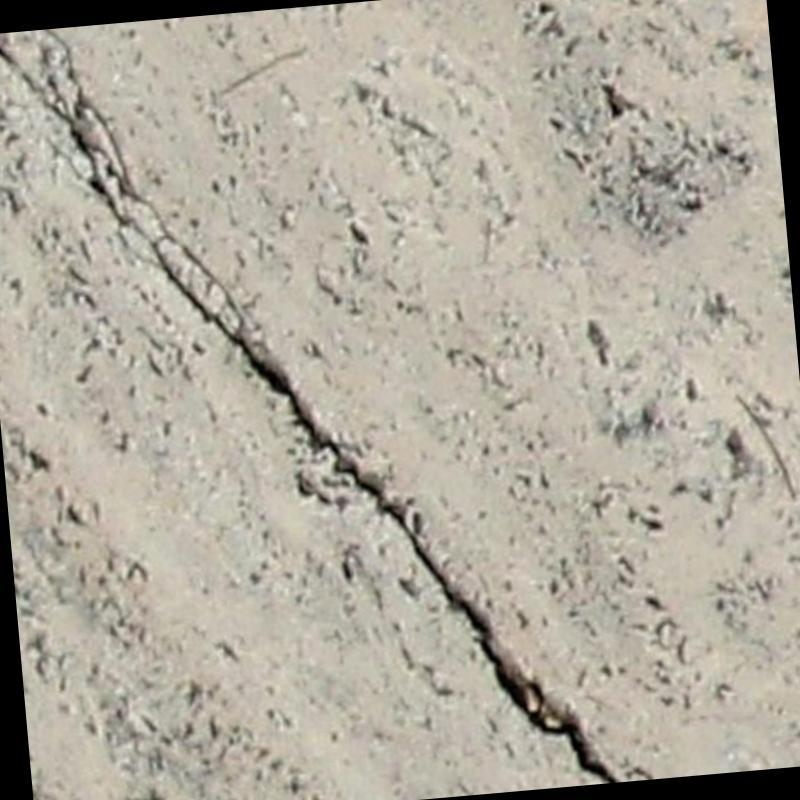pothole: (0, 29, 625, 783)
